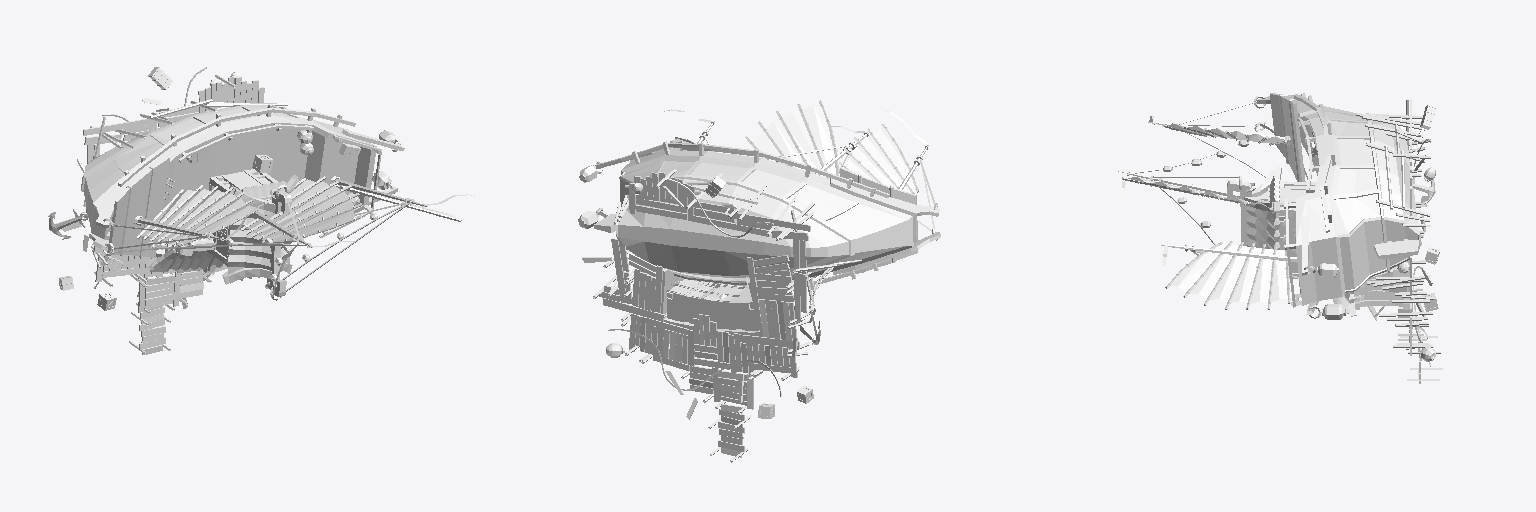
Rendered from ship.obj.
3 views of the same model, side by side, from view 1: azimuth 30°, elevation 25°; view 2: azimuth 150°, elevation 25°; view 3: azimuth 270°, elevation 25° (orthographic).
Visible parts, largest first — view 1: group144_Mesh.001; view 2: group144_Mesh.001; view 3: group144_Mesh.001.
Boxes of the visible parts, x1=… form: group144_Mesh.001: x1=48, y1=67, x2=474, y2=354; group144_Mesh.001: x1=578, y1=100, x2=940, y2=462; group144_Mesh.001: x1=1118, y1=93, x2=1442, y2=383.
Bounding box in the file's own units: 19.32 × 15.41 × 16.27.